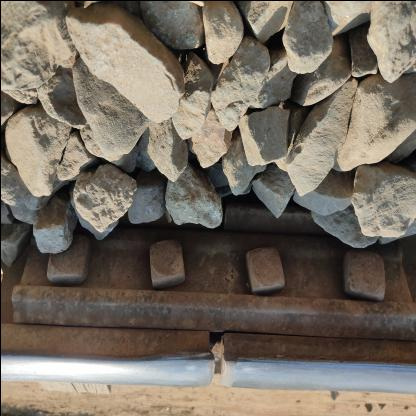Non Defective: (11, 213, 409, 335)
